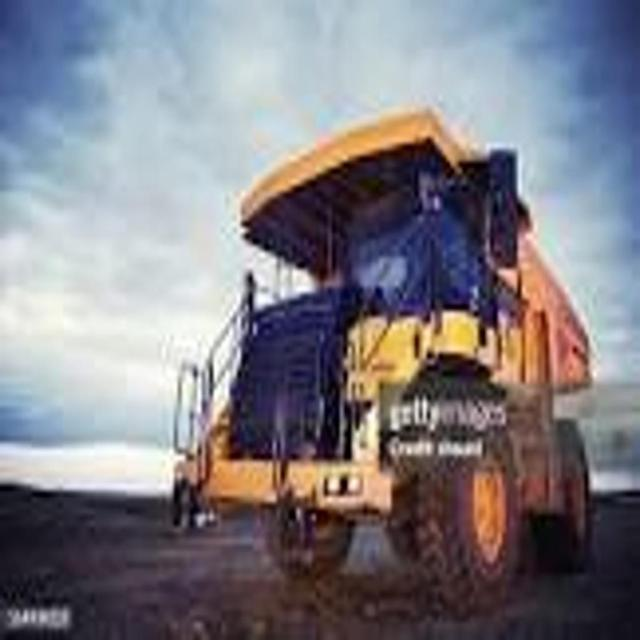dump_truck: (171, 90, 598, 618)
